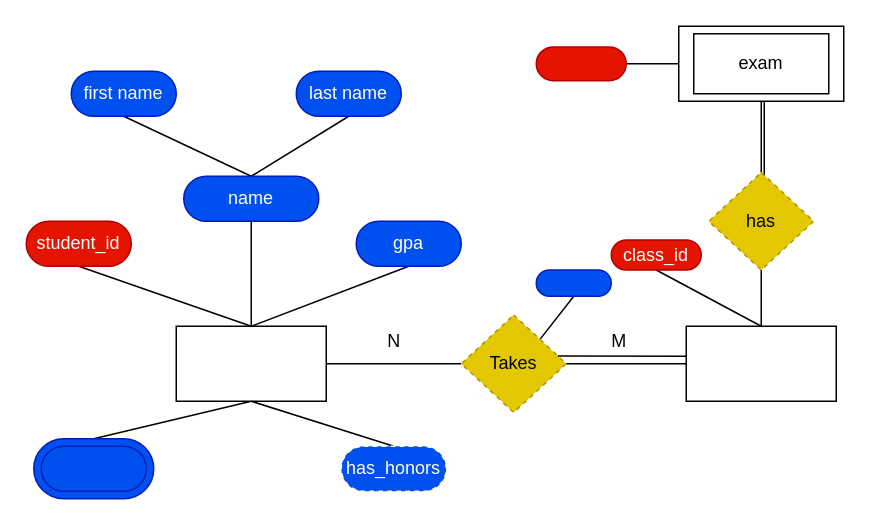
This 870x525 diagram has some shape labels left out. Here are the shapes that lost their labels. From the top down, the centre of each, then its label:
the point at 580,63: exam_id
the point at 573,282: grade
the point at 250,363: Student
the point at 760,363: class
the point at 93,468: clubs
